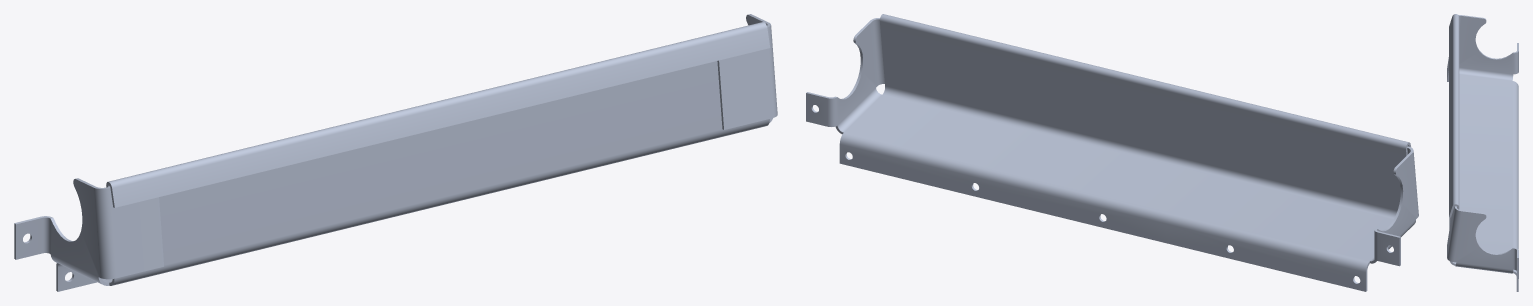
Rendered from Firewall__UA_26_Seatbelt_Firewall_1.dae.
The picture shows the model from 3 angles, left to right: view 1: azimuth 30°, elevation 25°; view 2: azimuth 150°, elevation 25°; view 3: azimuth 270°, elevation 25°; orthographic projection. The views are drawn at different scales.
Visible parts, largest first — view 1: node0; view 2: node0; view 3: node0.
Boxes of the visible parts, <box> form: node0: <box>14,14,777,291</box>; node0: <box>806,14,1418,291</box>; node0: <box>1447,14,1518,291</box>.
Bounding box in the file's own units: 0.3192 × 0.0608 × 0.0451.
